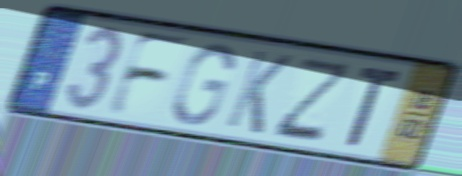3: (62, 23, 125, 115)
F: (102, 27, 195, 120)
G: (170, 41, 236, 128)
K: (221, 46, 295, 138)
T: (344, 65, 406, 151)
Z: (269, 55, 357, 144)
